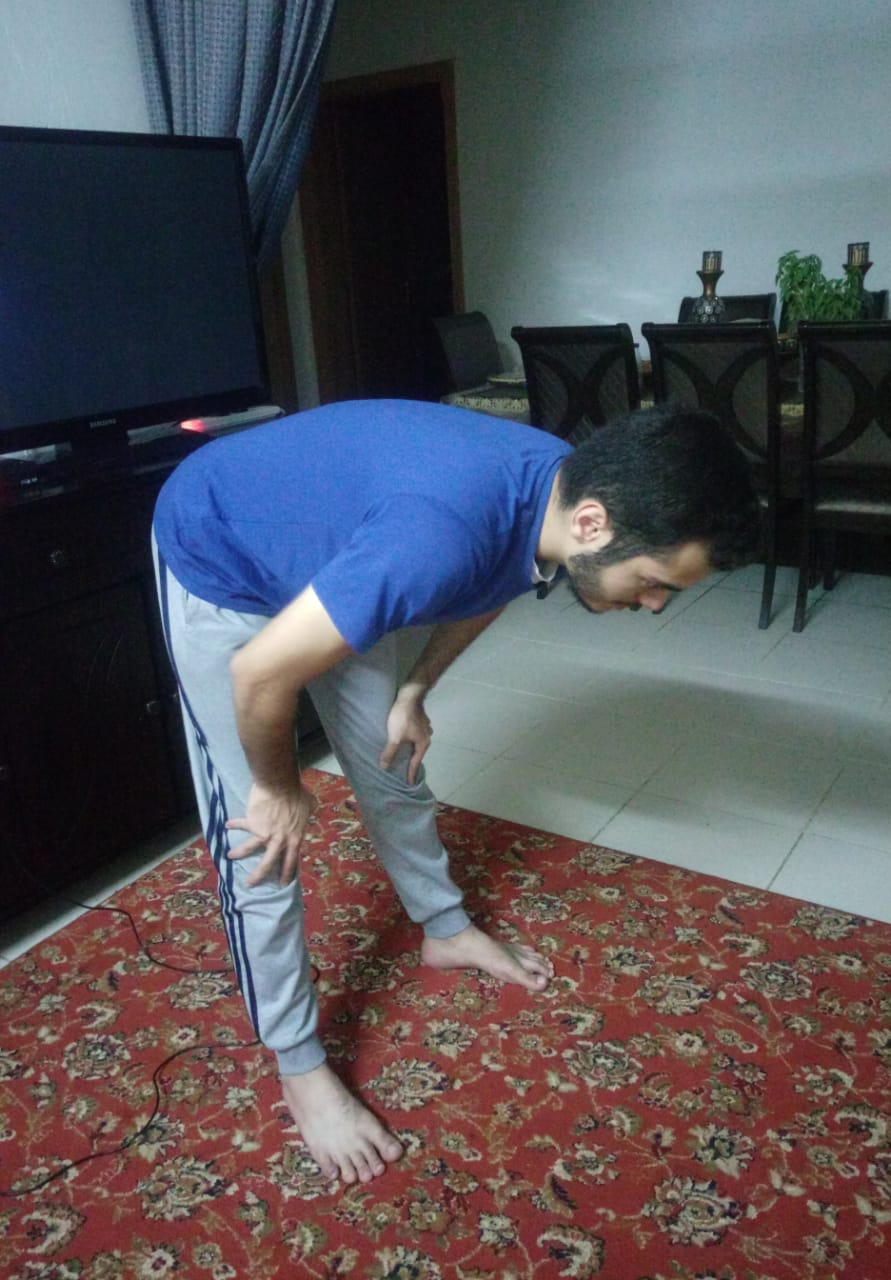ruku: (172, 376, 799, 1170)
